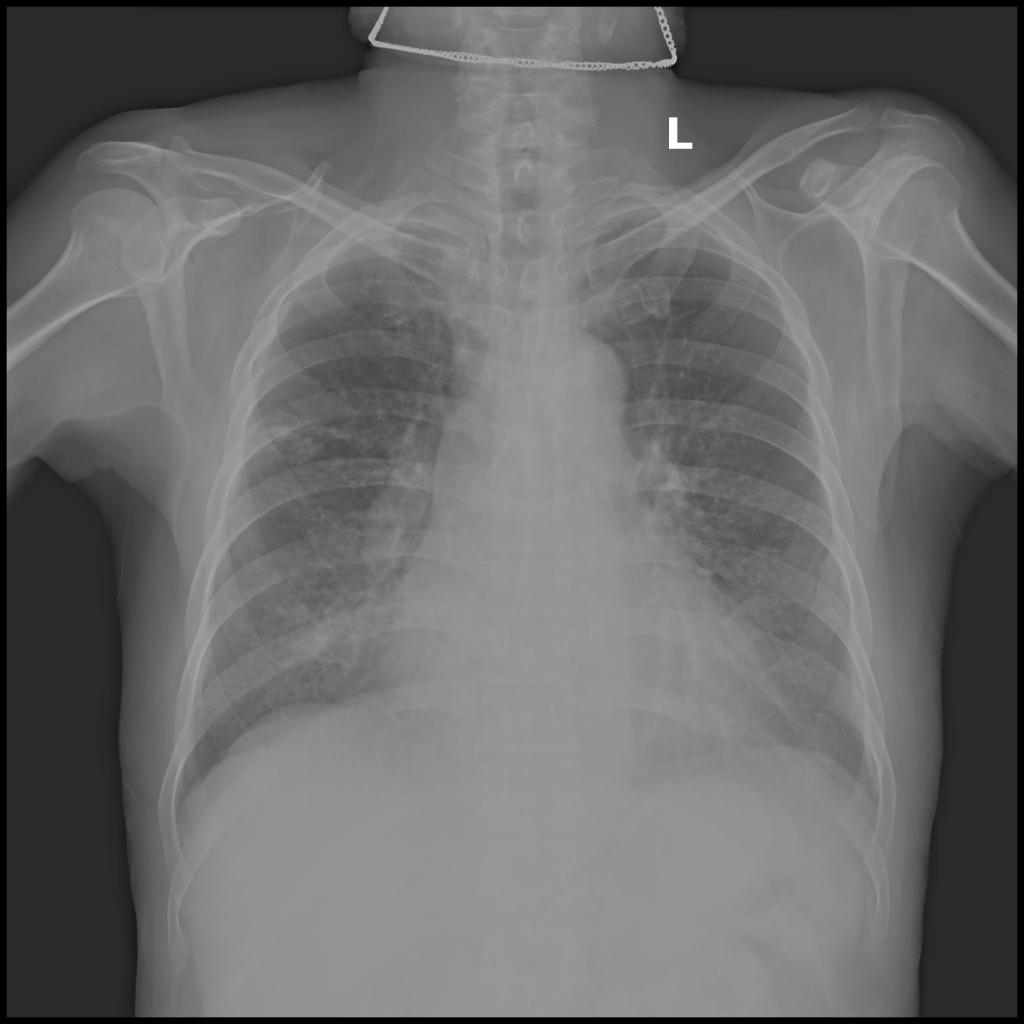Nodule: (826, 605, 846, 629)
